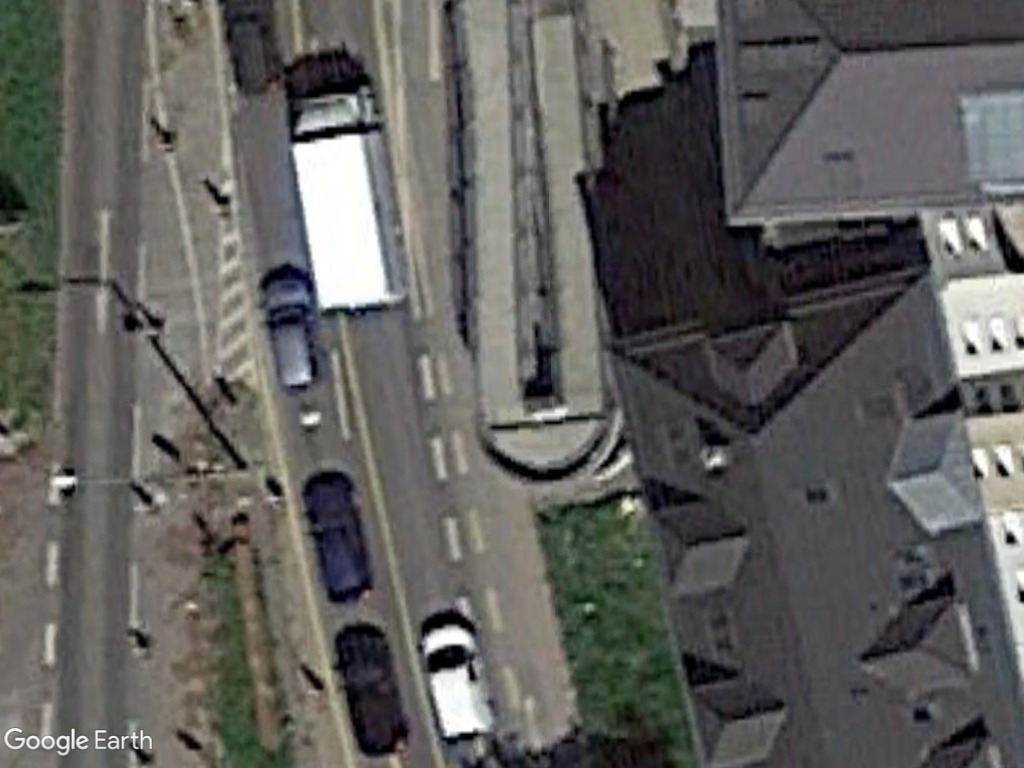car: (260, 269, 325, 393)
truck: (287, 84, 413, 323)
van: (413, 618, 500, 745)
